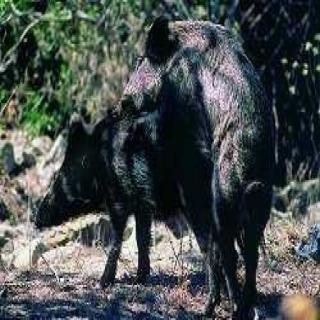Pig: (122, 5, 296, 299), (32, 79, 218, 302)
